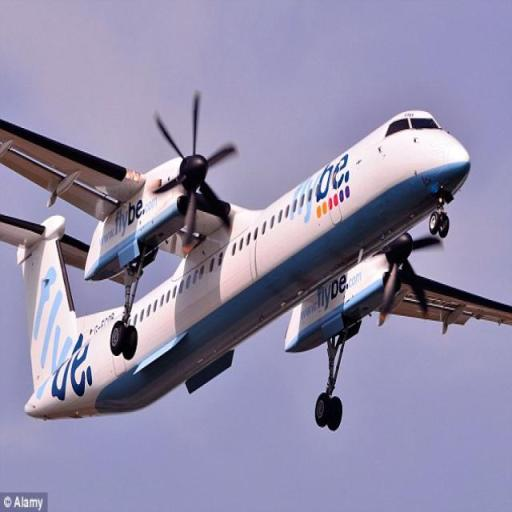uav: (6, 88, 512, 460)
